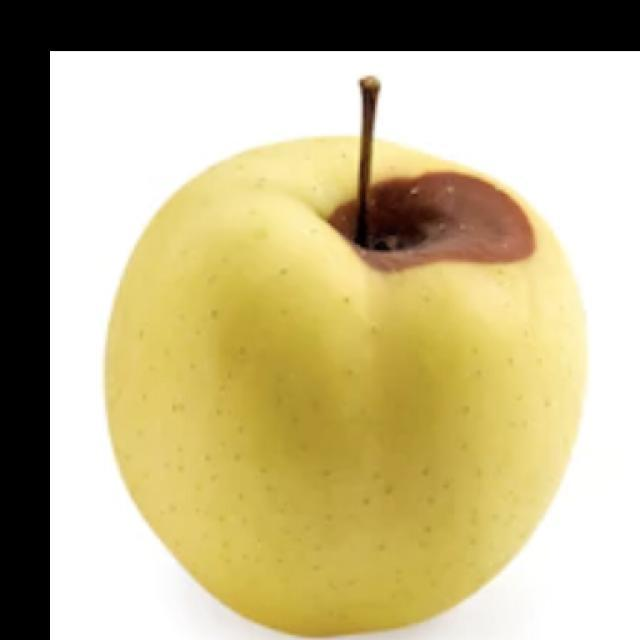Rotten: (108, 118, 593, 640)
